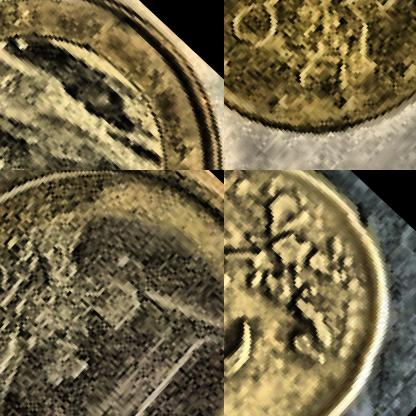coin: (0, 170, 223, 415), (224, 170, 415, 415), (0, 0, 223, 169), (224, 0, 415, 169)
